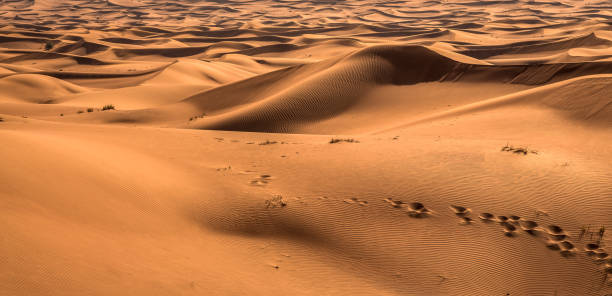animal_foot_print: (450, 205, 473, 224), (406, 202, 431, 217), (519, 220, 538, 235), (250, 174, 272, 186), (343, 197, 367, 205), (384, 198, 404, 207), (479, 212, 494, 222)
